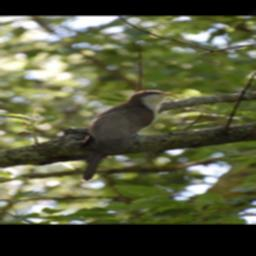Cuckoo: (75, 89, 184, 183)
